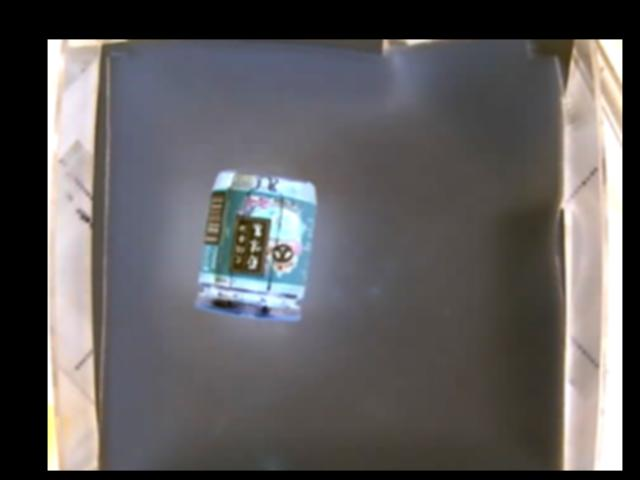Bottle: (190, 171, 316, 323)
